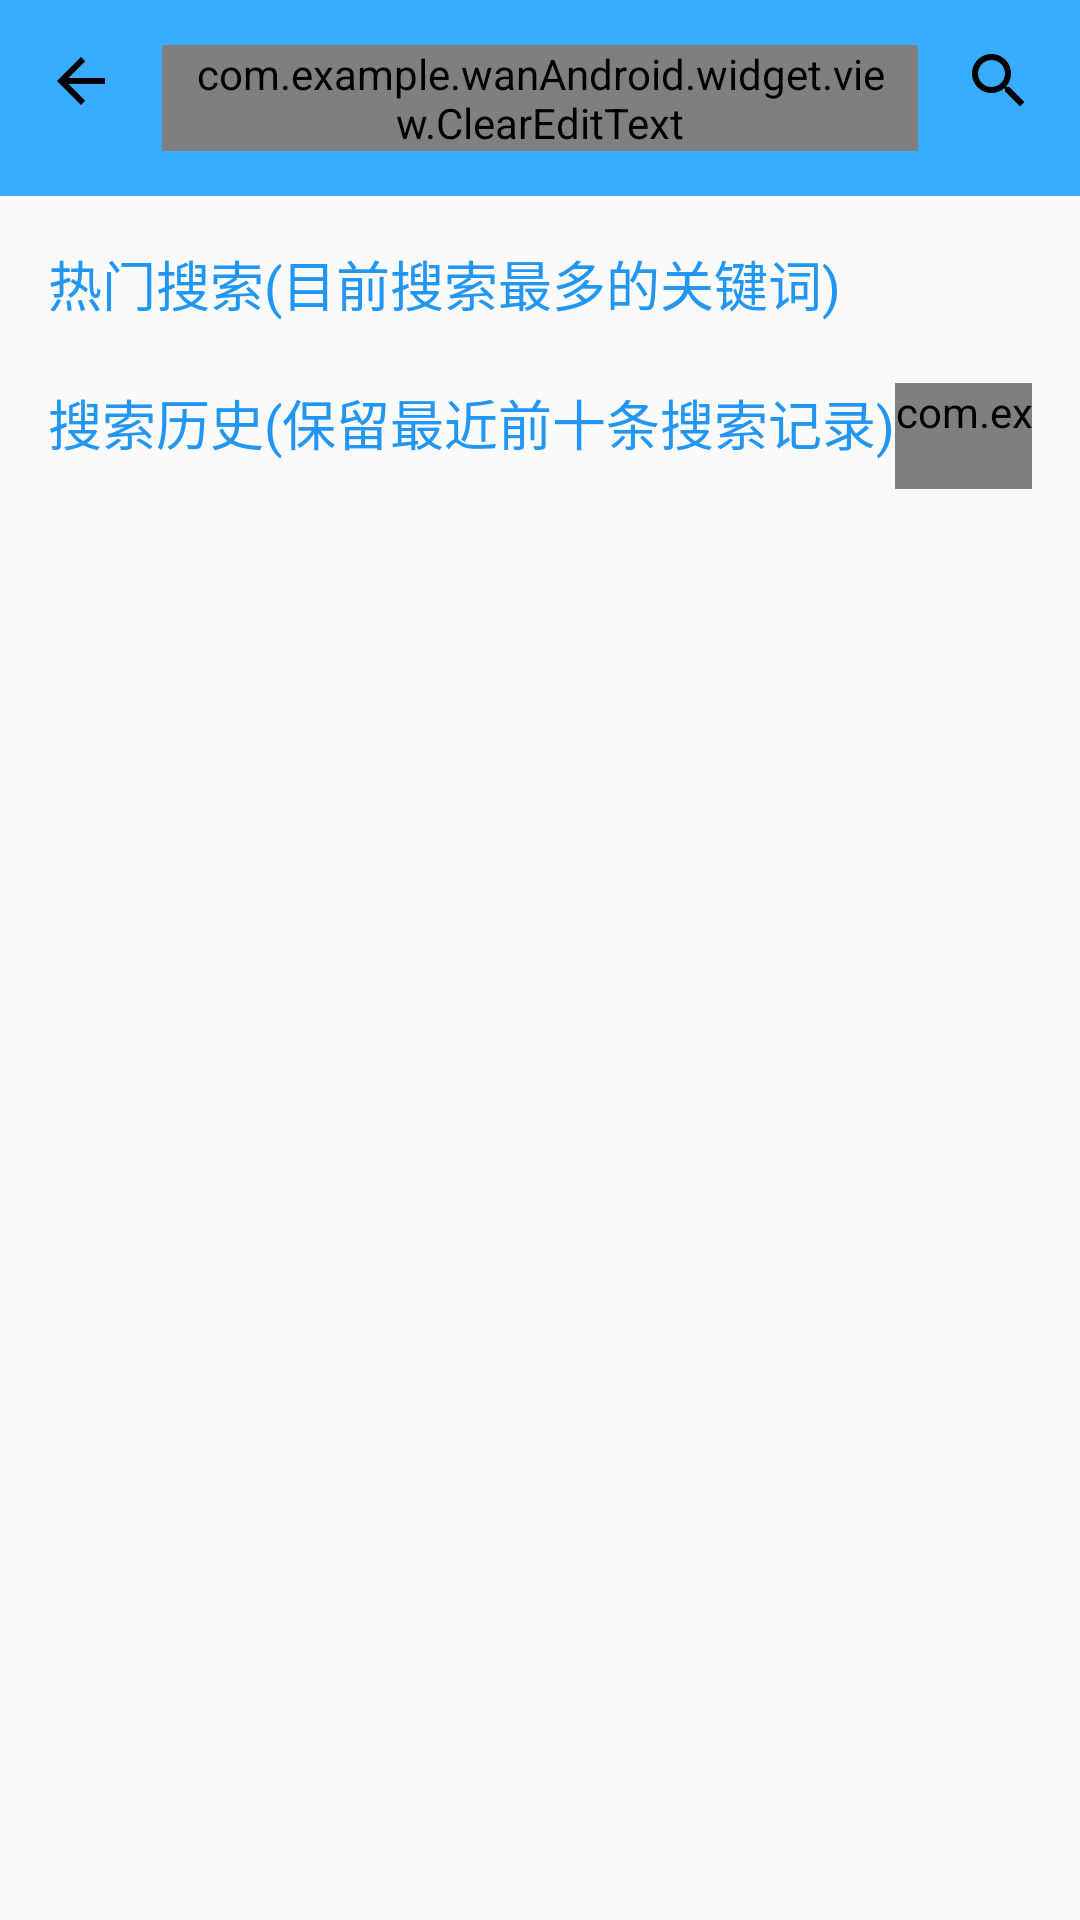

Locate icon controls on the screen. Image size 1080w x 1920h, boxes as (x1, y1, x2, y2).
back: (57, 57, 105, 105)
search: (972, 54, 1024, 106)
